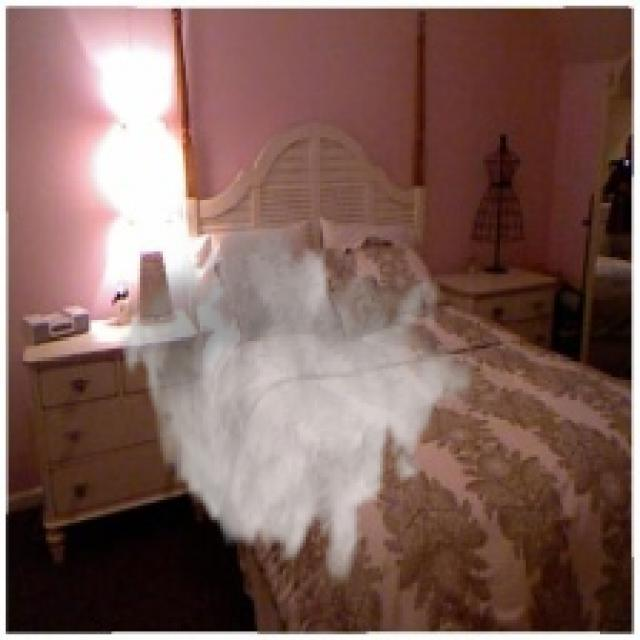smoke: (117, 206, 474, 591)
